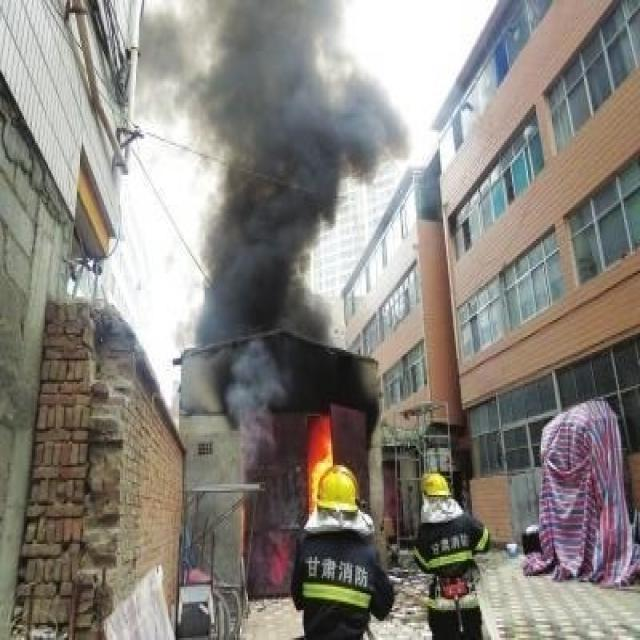Fire: (306, 414, 334, 523)
Smoke: (133, 2, 410, 469)
